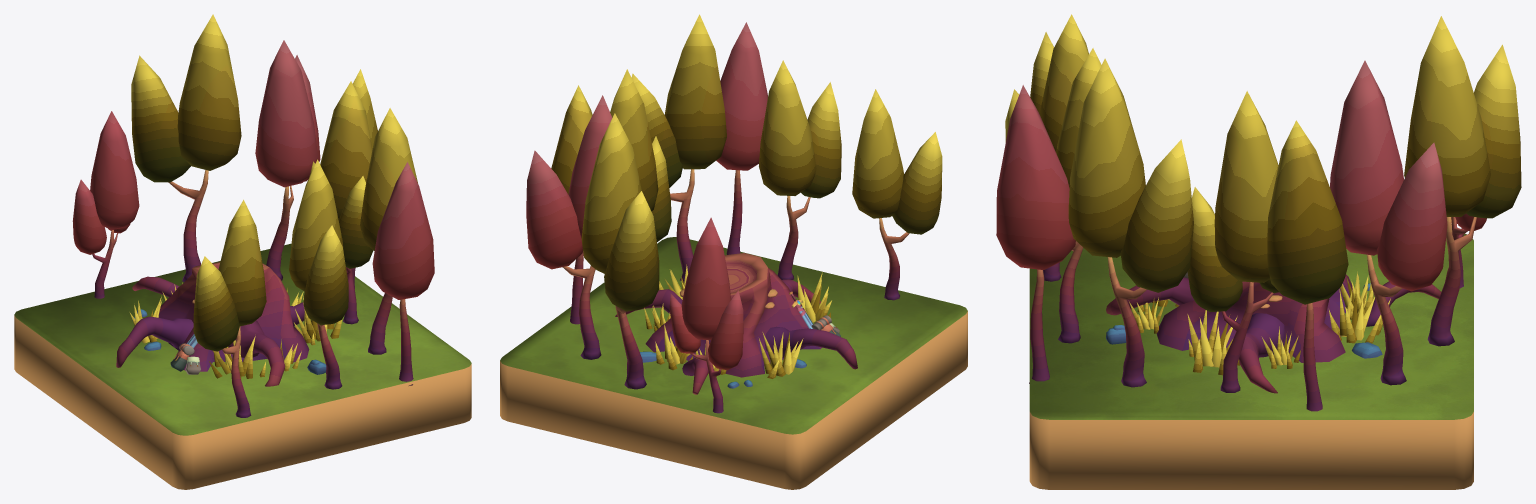
The model's file is forest_diorama.glb.
3 views of the same model, side by side, from view 1: azimuth 30°, elevation 25°; view 2: azimuth 150°, elevation 25°; view 3: azimuth 270°, elevation 25° (orthographic). The views are drawn at different scales.
Visible parts, largest first — view 1: Plane.021, tree2_b.004, Cylinder.014, tree2_b.003, tree2_b.007, tree2_b.005, tree1_b.005, tree3_b.003, tree3_b.004, tree2_b.006, GrassClump.009, tree1_b.006 (+1 smaller); view 2: Plane.021, tree2_b.004, tree2_b.006, tree2_b.005, tree2_b.003, Cylinder.014, tree2_b.007, tree3_b.004, tree1_b.005, tree3_b.003, tree1_b.006, GrassClump.012 (+2 smaller); view 3: Plane.021, tree2_b.006, tree2_b.007, tree2_b.004, tree3_b.003, tree1_b.006, tree1_b.005, Cylinder.014, tree2_b.003, tree2_b.005, GrassClump.010, GrassClump.008 (+4 smaller).
Part boxes in pixels (x1,y1,x2,y2): Plane.021: [14, 243, 471, 489]; tree2_b.004: [131, 14, 241, 282]; Cylinder.014: [116, 262, 309, 386]; tree2_b.003: [193, 199, 266, 417]; tree2_b.007: [255, 40, 320, 280]; tree2_b.005: [289, 159, 348, 389]; tree1_b.005: [372, 162, 434, 385]; tree3_b.003: [309, 81, 373, 324]; tree3_b.004: [72, 111, 139, 298]; tree2_b.006: [360, 108, 417, 354]; GrassClump.009: [209, 336, 265, 379]; tree1_b.006: [352, 69, 377, 289]; Plane.021: [500, 237, 967, 489]; tree2_b.004: [581, 113, 659, 389]; tree2_b.006: [631, 14, 726, 282]; tree2_b.005: [759, 60, 841, 279]; tree2_b.003: [852, 89, 942, 300]; Cylinder.014: [615, 253, 857, 394]; tree2_b.007: [526, 95, 612, 359]; tree3_b.004: [669, 217, 743, 413]; tree1_b.005: [716, 22, 767, 254]; tree3_b.003: [610, 69, 671, 241]; tree1_b.006: [551, 85, 592, 324]; GrassClump.012: [759, 332, 803, 378]; Plane.021: [1029, 234, 1473, 489]; tree2_b.006: [1068, 58, 1193, 387]; tree2_b.007: [1330, 60, 1447, 385]; tree2_b.004: [1404, 16, 1521, 346]; tree3_b.003: [1187, 91, 1278, 392]; tree1_b.006: [1267, 120, 1348, 411]; tree1_b.005: [996, 85, 1075, 383]; Cylinder.014: [1106, 274, 1441, 393]; tree2_b.003: [1030, 14, 1088, 281]; tree2_b.005: [1005, 48, 1101, 343]; GrassClump.010: [1187, 310, 1239, 375]; GrassClump.008: [1329, 286, 1390, 343].
Size of the model in its own units: 183 by 181 by 211.
Materials: 4 (4 with a texture image).
